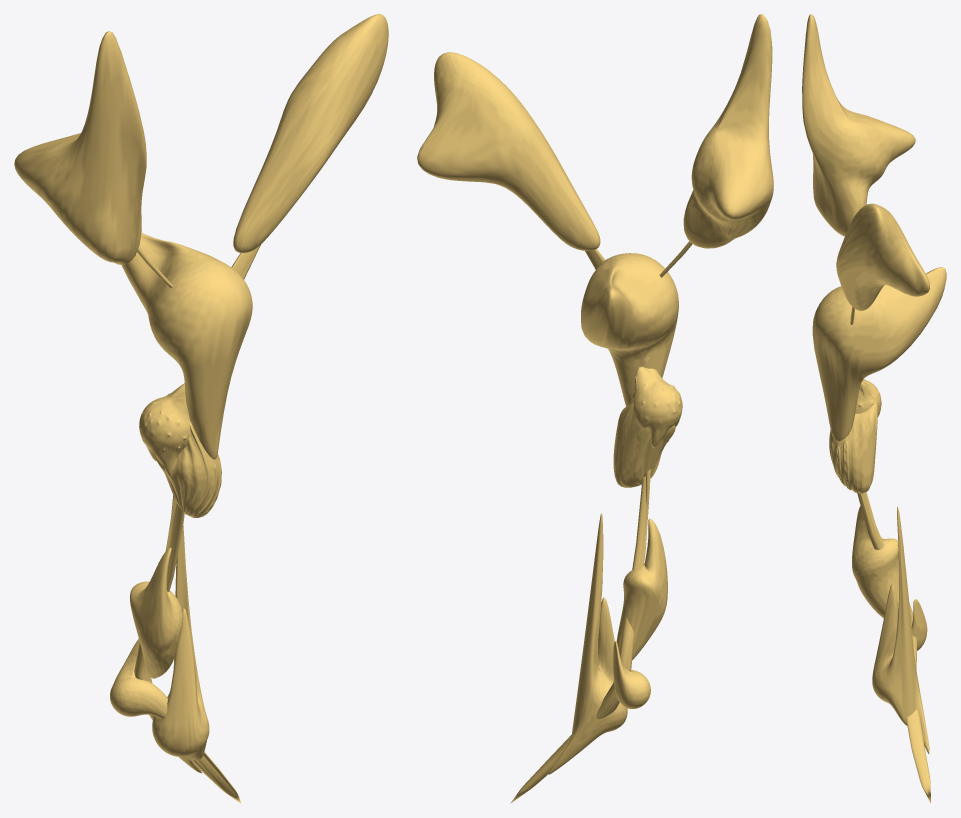
File: lemon-tree_normalize-4.glb
3 renders of one model, left to right at view 1: azimuth 30°, elevation 25°; view 2: azimuth 150°, elevation 25°; view 3: azimuth 270°, elevation 25°, orthographic. The views are drawn at different scales.
Parts seen in each view (by area): view 1: Sphere; view 2: Sphere; view 3: Sphere.
Part boxes in pixels (x1,y1,x2,y2): Sphere: (14, 14, 388, 803); Sphere: (417, 14, 773, 803); Sphere: (802, 14, 946, 803).
Bounding box in the file's own units: 3.46 × 8.03 × 1.49.
